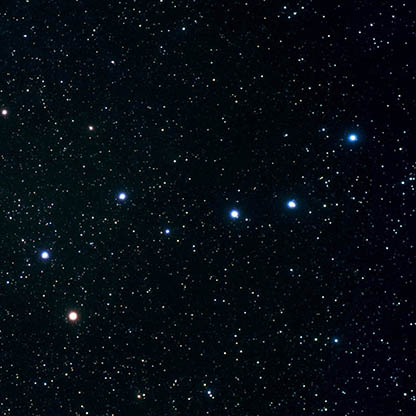Ursa Major: (56, 302, 86, 331), (220, 199, 246, 229), (33, 241, 56, 272), (109, 183, 133, 211), (278, 191, 302, 219), (342, 124, 365, 153), (156, 220, 182, 245)
